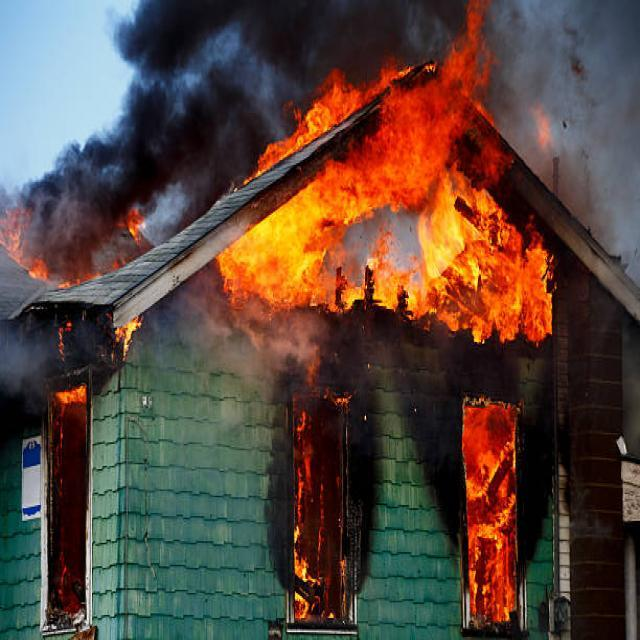Fire: (266, 51, 534, 386), (278, 396, 348, 592), (465, 408, 522, 624)
Smoke: (62, 3, 342, 271), (494, 8, 634, 301), (336, 3, 500, 114), (5, 164, 84, 266)
